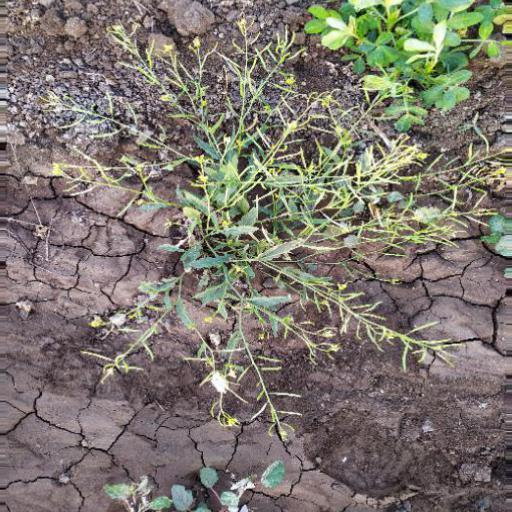weed: (39, 53, 484, 419)
